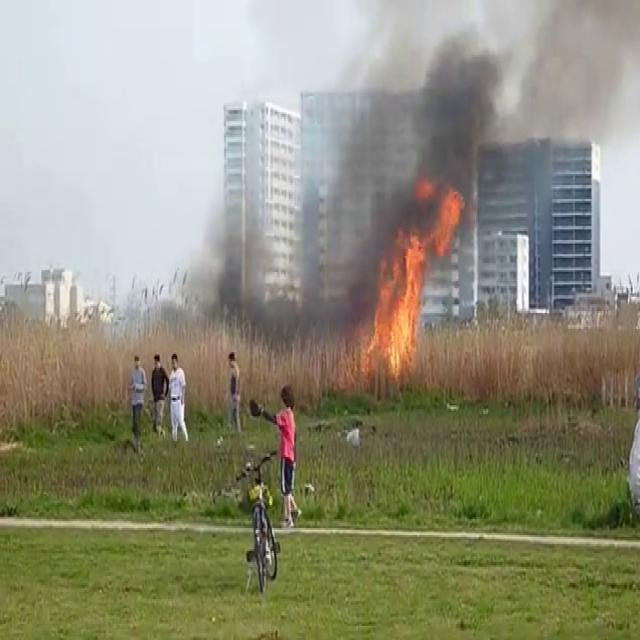Fire: (362, 184, 460, 385)
Smoke: (302, 2, 514, 310), (185, 151, 284, 341)
